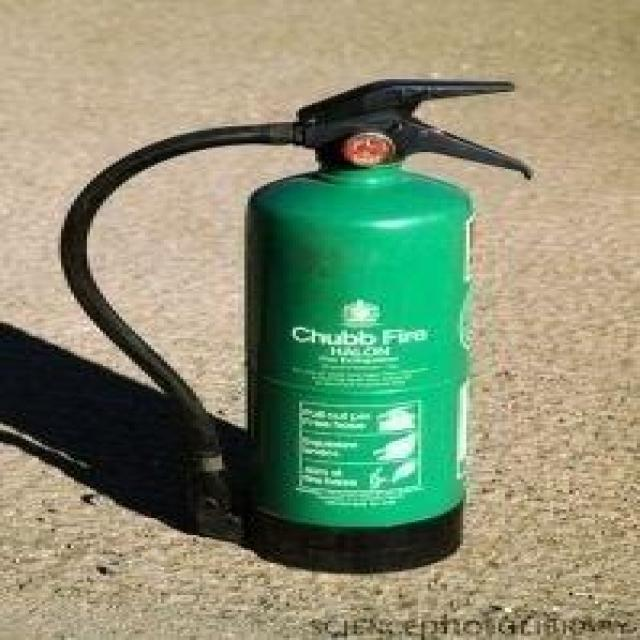fire_extinguisher: (46, 72, 538, 579)
